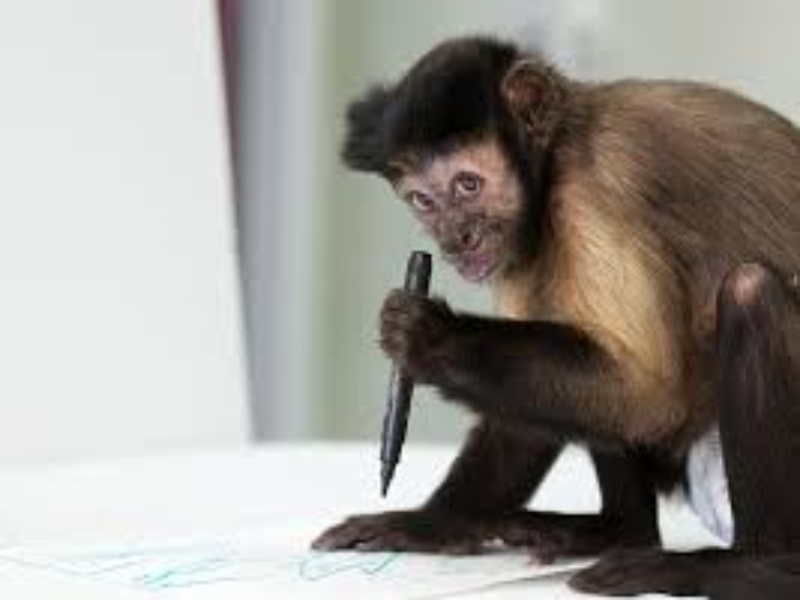monkey: (287, 14, 797, 585)
